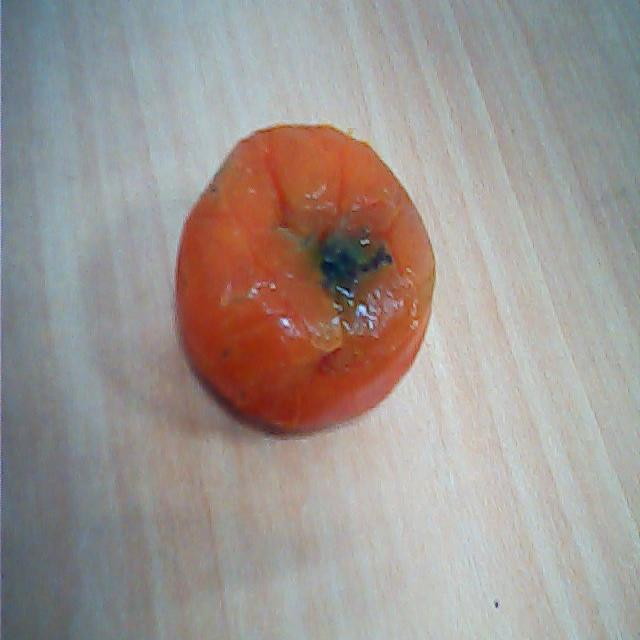defectuoso: (164, 116, 438, 438)
